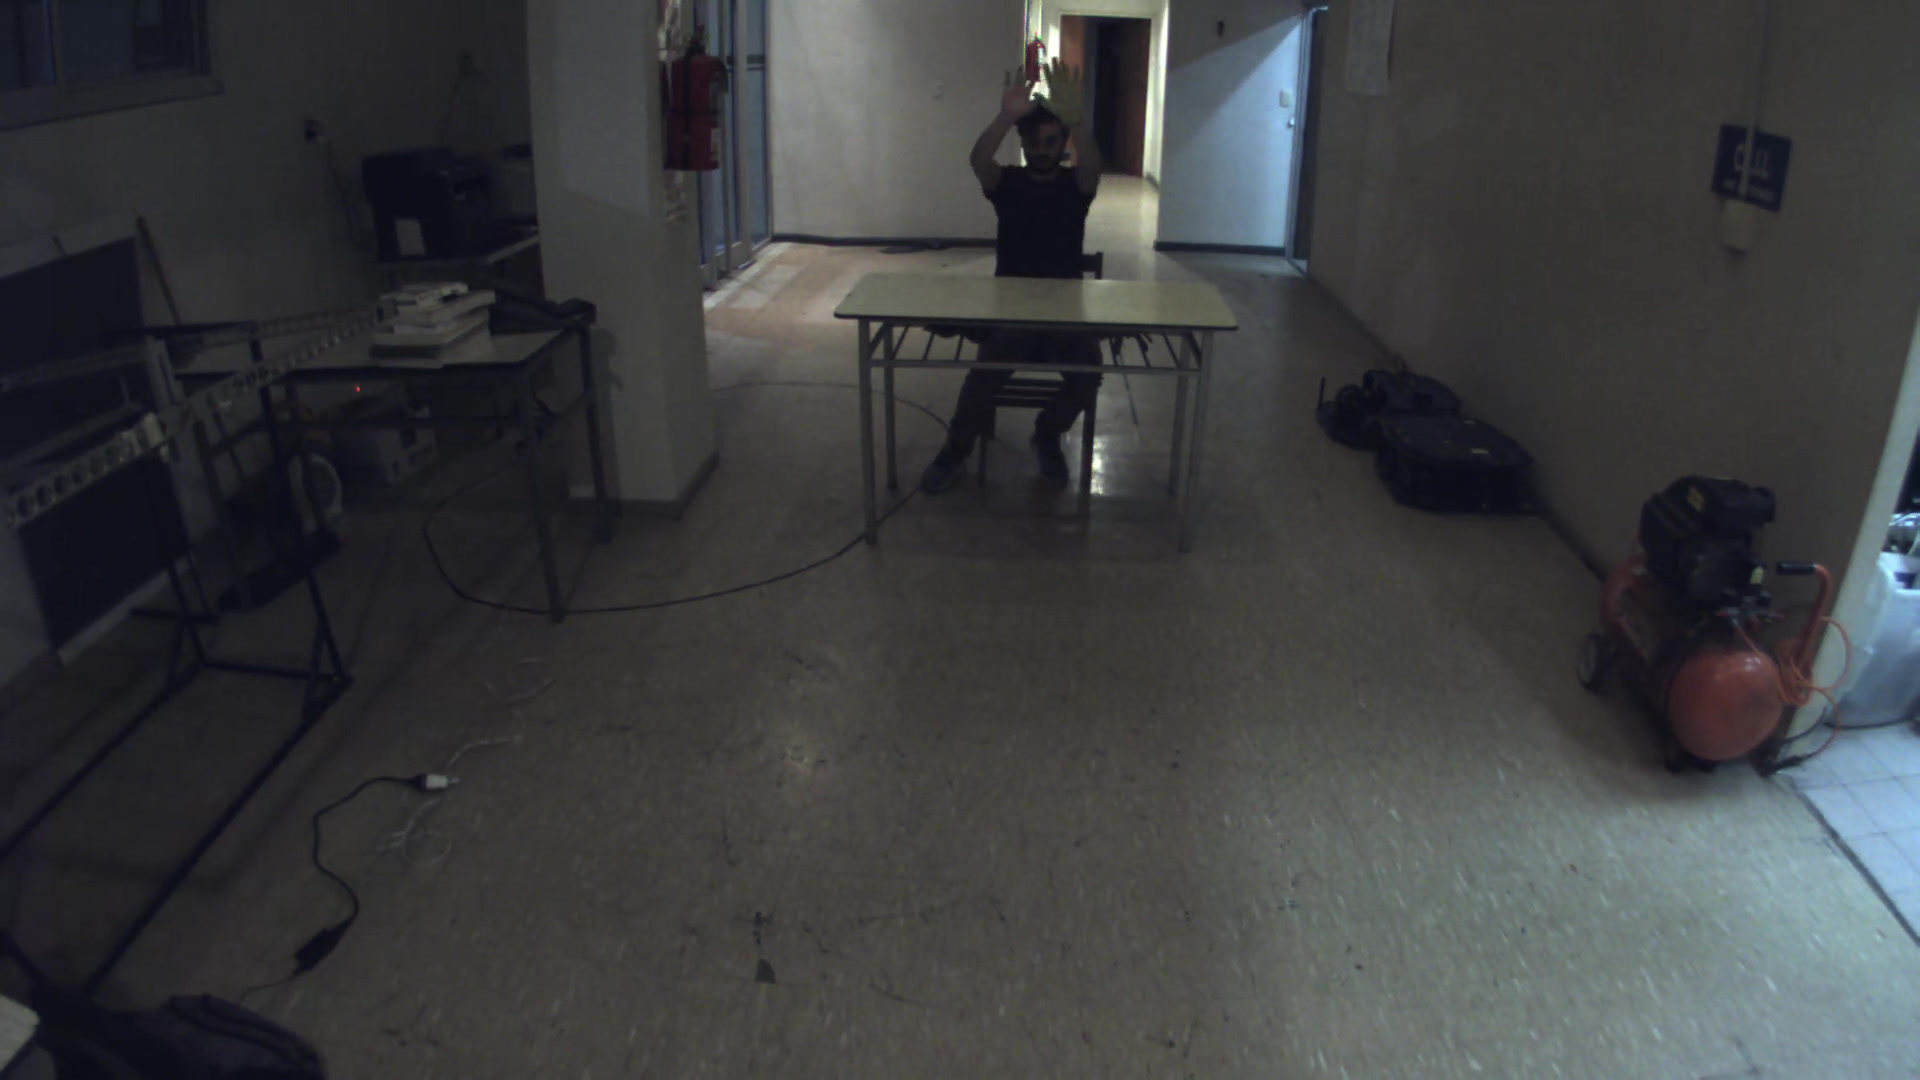hand: (1038, 46, 1108, 128), (989, 61, 1048, 120)
